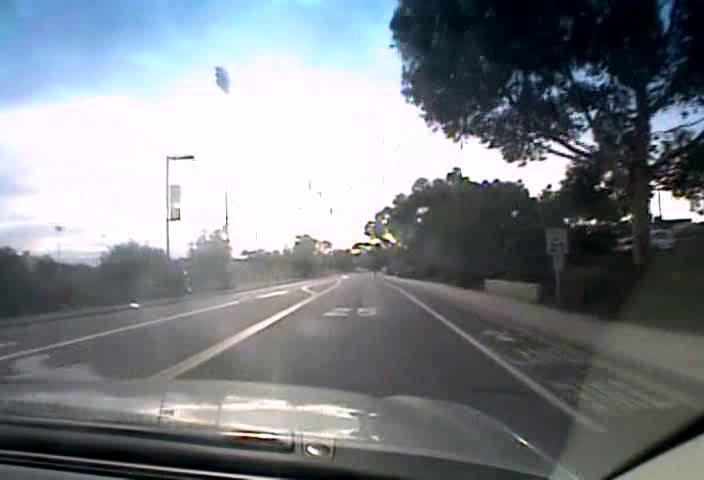speedLimitUrdbl: (543, 227, 569, 255)
